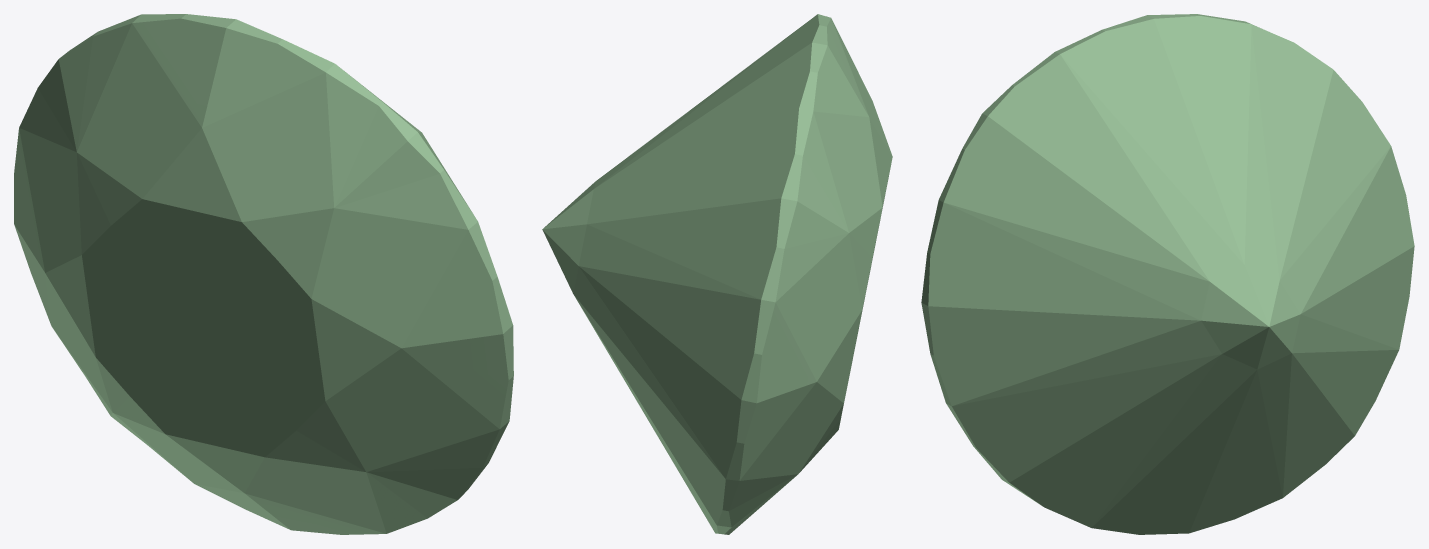
File: TL4_8shapes_Round_Classic_Stone.001 3.glb
The picture shows the model from 3 angles, left to right: view 1: azimuth 30°, elevation 25°; view 2: azimuth 150°, elevation 25°; view 3: azimuth 270°, elevation 25°; orthographic projection. The views are drawn at different scales.
Visible parts, largest first — view 1: TL4_8shapes_Round_Classic_Stone.001; view 2: TL4_8shapes_Round_Classic_Stone.001; view 3: TL4_8shapes_Round_Classic_Stone.001.
Boxes of the visible parts, x1=… form: TL4_8shapes_Round_Classic_Stone.001: x1=14, y1=14, x2=513, y2=534; TL4_8shapes_Round_Classic_Stone.001: x1=542, y1=14, x2=892, y2=534; TL4_8shapes_Round_Classic_Stone.001: x1=921, y1=14, x2=1414, y2=534.
Size of the model in its own units: 0.3322 by 0.4885 by 0.4543.
